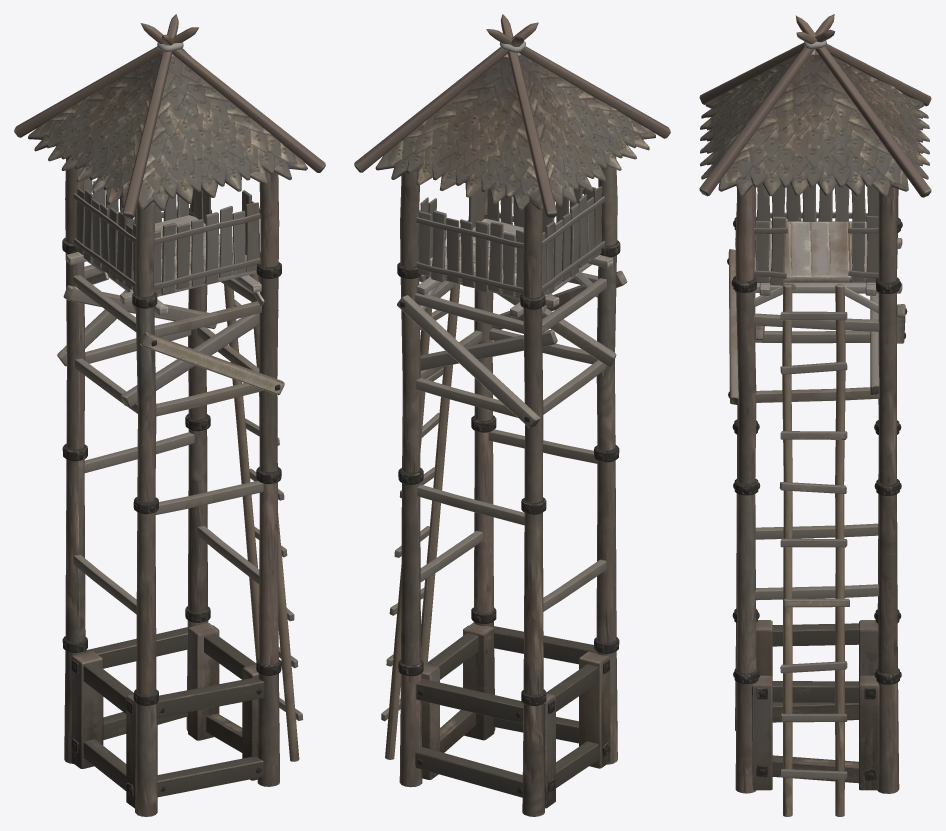
Rendered from build_tower_01.glb.
3 views of the same model, side by side, from view 1: azimuth 30°, elevation 25°; view 2: azimuth 150°, elevation 25°; view 3: azimuth 270°, elevation 25° (orthographic).
Parts seen in each view (by area): view 1: build_tower_01; view 2: build_tower_01; view 3: build_tower_01.
Part boxes in pixels (bbox=[...]): build_tower_01: bbox=[14, 14, 325, 816]; build_tower_01: bbox=[354, 14, 670, 816]; build_tower_01: bbox=[699, 14, 931, 816].
Size of the model in its own units: 4.43 by 14.53 by 4.13.
4 materials, 4 textured.
